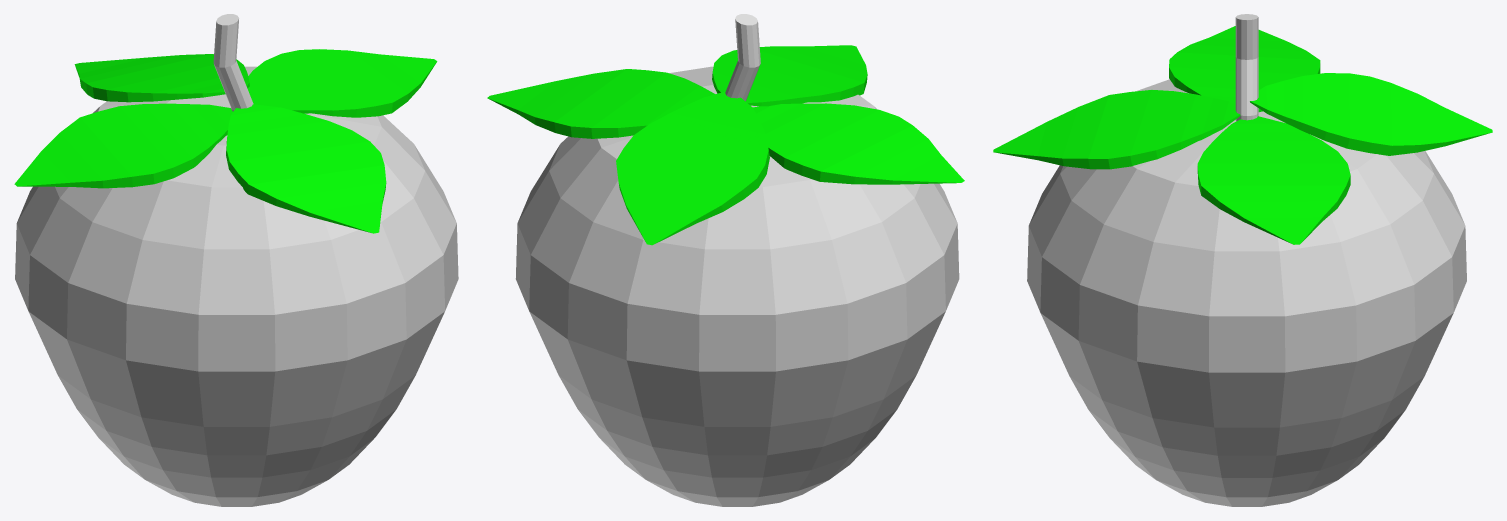
The model's file is Strabery.fbx.
The picture shows the model from 3 angles, left to right: view 1: azimuth 30°, elevation 25°; view 2: azimuth 150°, elevation 25°; view 3: azimuth 270°, elevation 25°; orthographic projection.
Parts seen in each view (by area): view 1: Sphere, Cube.002, Cube.001, Cube, Cube.003, Cylinder; view 2: Sphere, Cube.003, Cube.001, Cube, Cube.002, Cylinder; view 3: Sphere, Cube, Cube.003, Cube.002, Cube.001, Cylinder.
Part boxes in pixels (x1=…): Sphere: x1=15, y1=66, x2=458, y2=506; Cube.002: x1=226, y1=104, x2=386, y2=233; Cube.001: x1=14, y1=103, x2=233, y2=188; Cube: x1=247, y1=49, x2=437, y2=117; Cube.003: x1=74, y1=54, x2=249, y2=102; Cylinder: x1=213, y1=14, x2=253, y2=111; Sphere: x1=515, y1=66, x2=959, y2=506; Cube.003: x1=616, y1=91, x2=769, y2=245; Cube.001: x1=752, y1=103, x2=964, y2=184; Cube: x1=487, y1=69, x2=714, y2=138; Cube.002: x1=712, y1=45, x2=867, y2=106; Cylinder: x1=725, y1=14, x2=760, y2=101; Sphere: x1=1027, y1=79, x2=1466, y2=506; Cube: x1=1197, y1=116, x2=1350, y2=244; Cube.003: x1=1250, y1=73, x2=1492, y2=155; Cube.002: x1=993, y1=90, x2=1240, y2=169; Cube.001: x1=1169, y1=26, x2=1320, y2=112; Cylinder: x1=1235, y1=14, x2=1258, y2=121.
Size of the model in its own units: 127 by 129 by 124.
